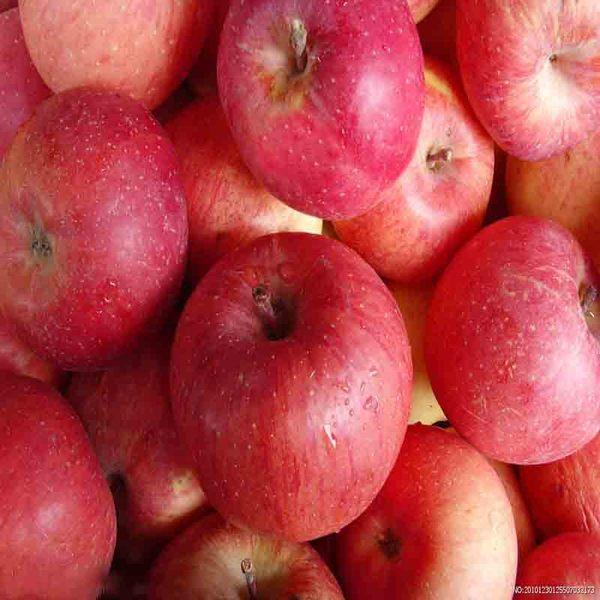apple: (172, 244, 421, 546), (1, 103, 185, 385), (221, 4, 448, 213), (416, 237, 596, 458), (331, 47, 500, 280), (331, 423, 526, 595), (1, 375, 119, 600), (452, 1, 600, 163), (13, 1, 219, 110)
